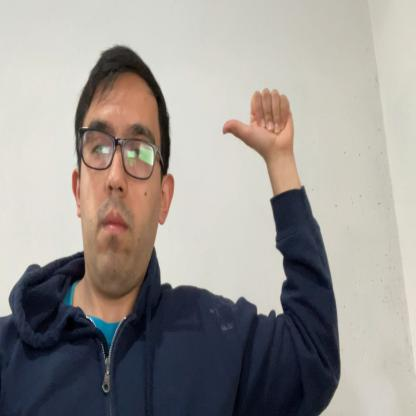A: (221, 87, 295, 155)
